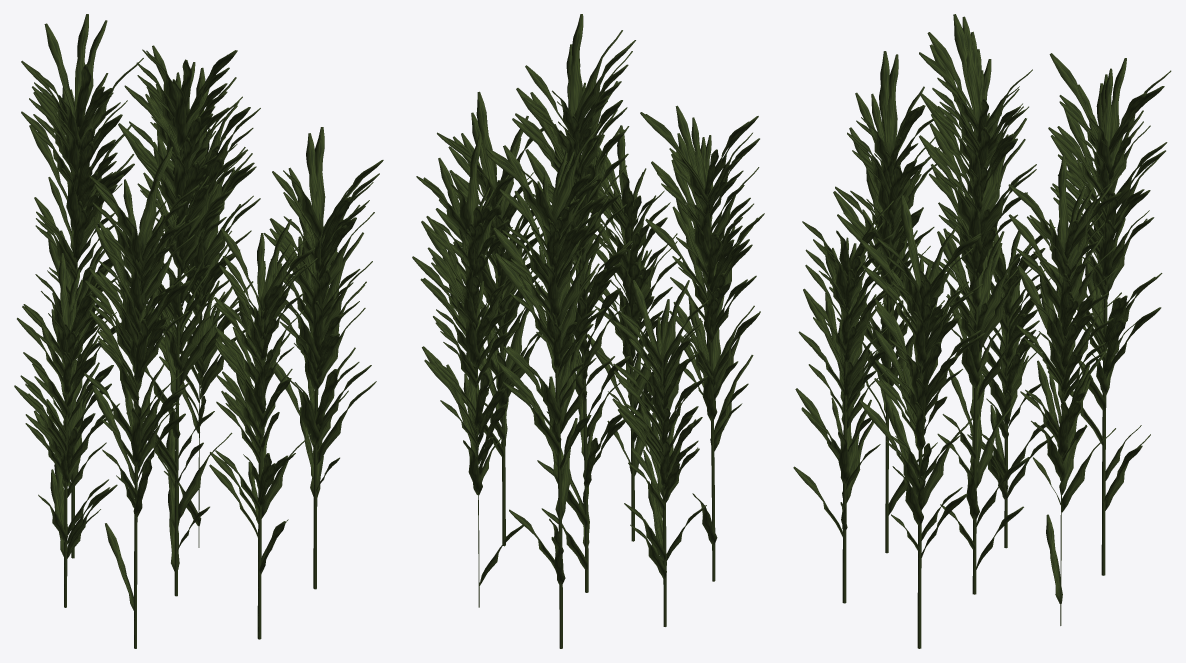
File: seaweed.fbx
3 views of the same model, side by side, from view 1: azimuth 30°, elevation 25°; view 2: azimuth 150°, elevation 25°; view 3: azimuth 270°, elevation 25° (orthographic).
Visible parts, largest first — view 1: BézierCurve.007; view 2: BézierCurve.007; view 3: BézierCurve.007.
Part boxes in pixels (<box>): BézierCurve.007: <box>14,14,383,648</box>; BézierCurve.007: <box>412,14,764,648</box>; BézierCurve.007: <box>793,14,1171,648</box>.
Size of the model in its own units: 1897 by 3329 by 2034.
